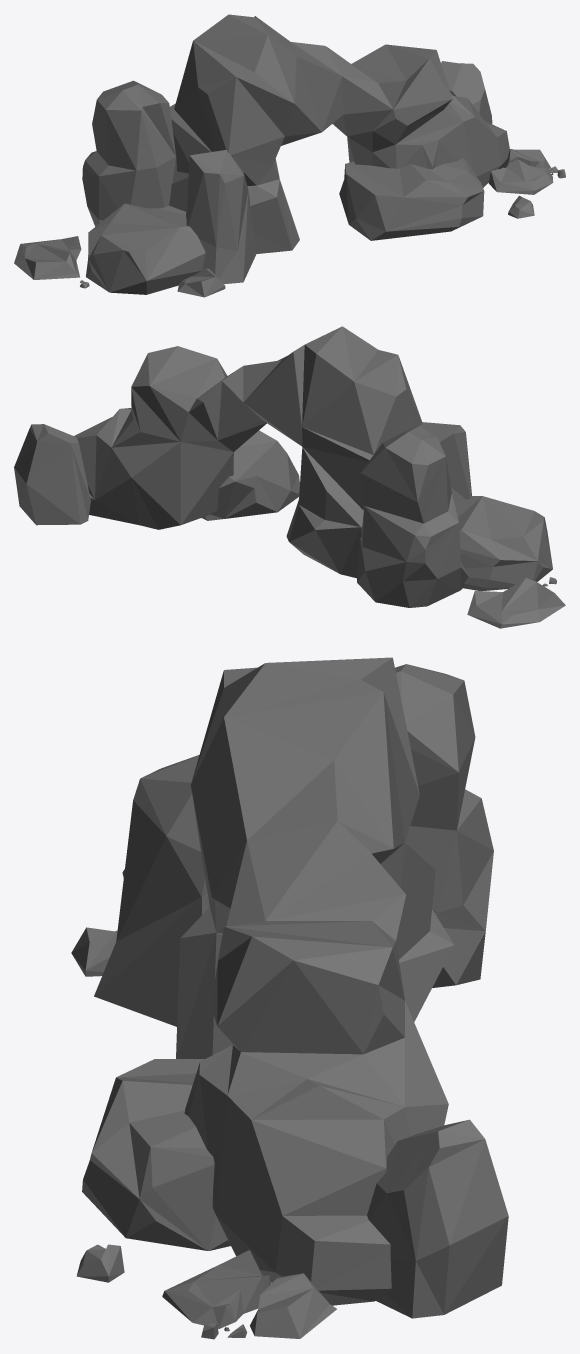
Rendered from Stone_A_02.FBX.
3 renders of one model, top to bottom at view 1: azimuth 30°, elevation 25°; view 2: azimuth 150°, elevation 25°; view 3: azimuth 270°, elevation 25°, orthographic. The views are drawn at different scales.
Parts seen in each view (by area): view 1: Stone_A_02; view 2: Stone_A_02; view 3: Stone_A_02.
Part boxes in pixels (x1,y1,x2,y2): Stone_A_02: (14,14,565,297); Stone_A_02: (14,326,565,628); Stone_A_02: (71,657,508,1339).
Bounding box in the file's own units: 26.55 × 10 × 9.94.
